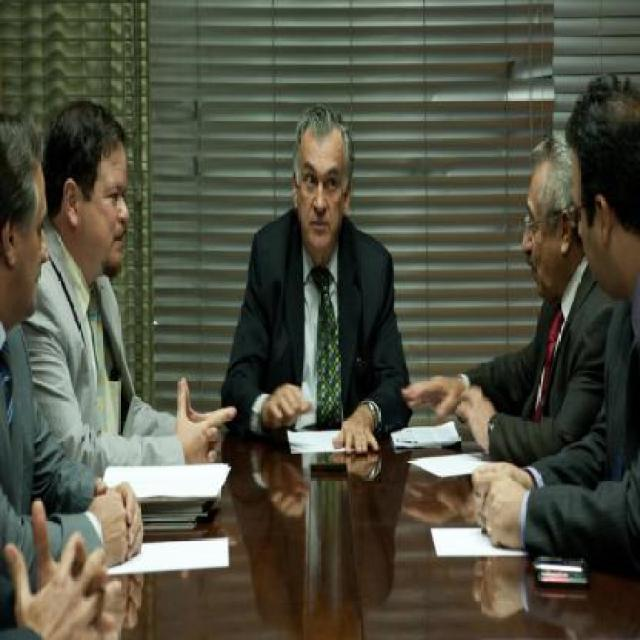Person: (466, 73, 640, 585), (22, 100, 240, 466), (228, 103, 408, 522), (0, 111, 146, 600), (403, 134, 617, 460), (3, 492, 114, 638)
